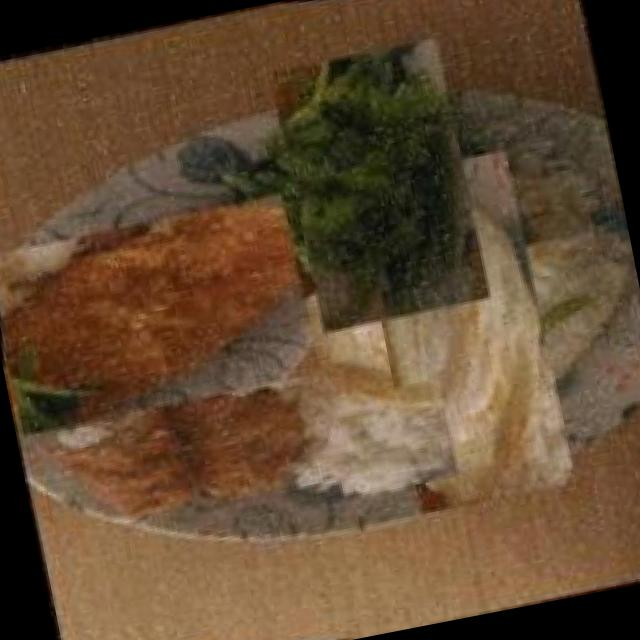fried_chicken: (0, 156, 346, 467)
fried_eggs: (283, 154, 640, 512)
rice: (280, 362, 470, 522)
water_spinach: (223, 28, 536, 342)
